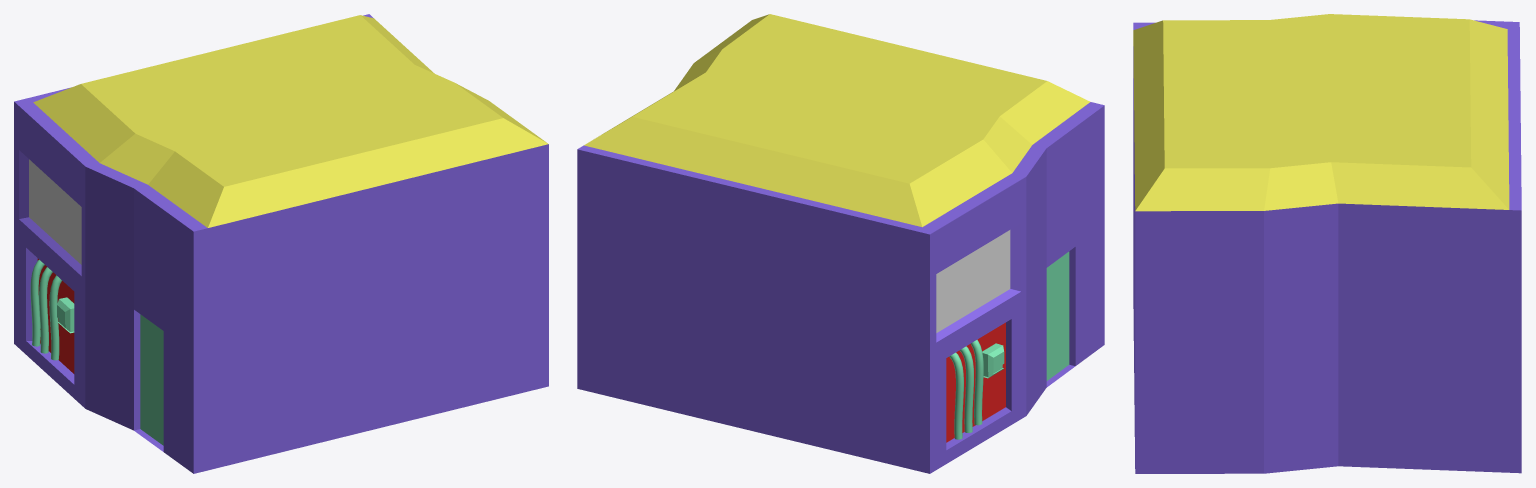
The model's file is FBX_LC_mHouseTop_2.fbx.
The picture shows the model from 3 angles, left to right: view 1: azimuth 30°, elevation 25°; view 2: azimuth 150°, elevation 25°; view 3: azimuth 270°, elevation 25°; orthographic projection. The views are drawn at different scales.
Visible parts, largest first — view 1: FBX_LC_mHouseTop_2; view 2: FBX_LC_mHouseTop_2; view 3: FBX_LC_mHouseTop_2.
Boxes of the visible parts, x1,y1,x2,y2 form: FBX_LC_mHouseTop_2: (14, 14, 548, 473); FBX_LC_mHouseTop_2: (577, 14, 1104, 473); FBX_LC_mHouseTop_2: (1133, 14, 1521, 473).
Size of the model in its own units: 1038 by 712 by 869.
